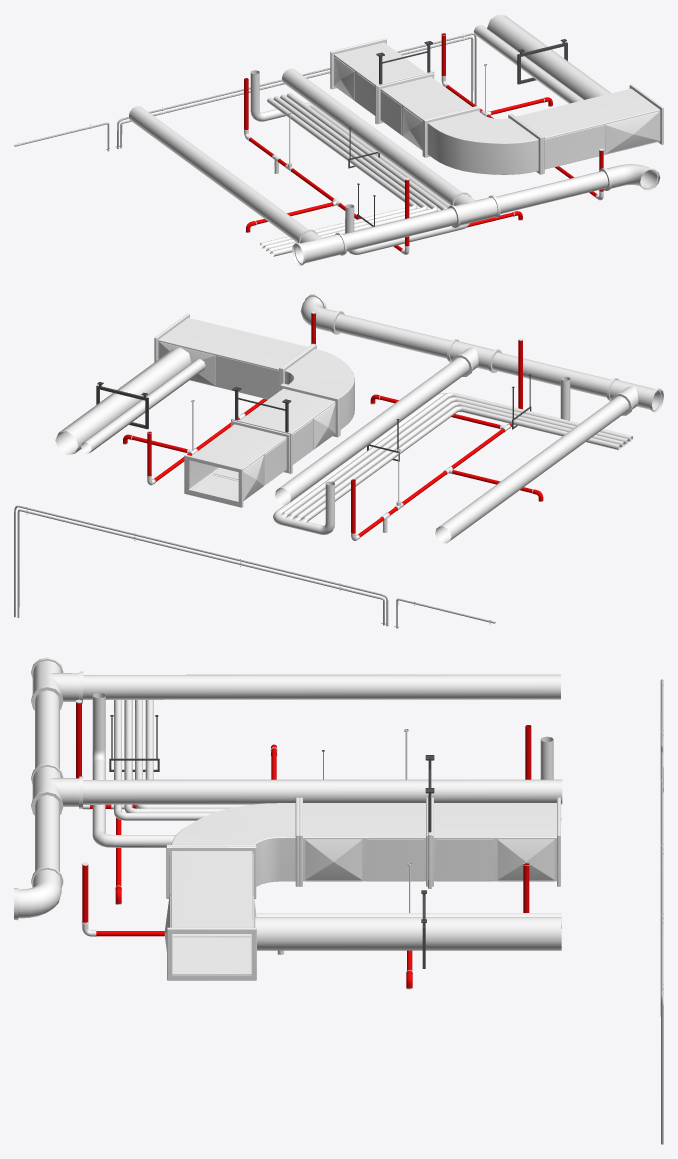
3 renders of one model, top to bottom at view 1: azimuth 30°, elevation 25°; view 2: azimuth 150°, elevation 25°; view 3: azimuth 270°, elevation 25°, orthographic. The views are drawn at different scales.
Parts seen in each view (by area): view 1: SM_H_Building_FutureTech_HBlue_01_InterWall_07B; view 2: SM_H_Building_FutureTech_HBlue_01_InterWall_07B; view 3: SM_H_Building_FutureTech_HBlue_01_InterWall_07B.
Boxes of the visible parts, x1=… form: SM_H_Building_FutureTech_HBlue_01_InterWall_07B: x1=14, y1=14, x2=663, y2=265; SM_H_Building_FutureTech_HBlue_01_InterWall_07B: x1=14, y1=294, x2=663, y2=628; SM_H_Building_FutureTech_HBlue_01_InterWall_07B: x1=14, y1=657, x2=663, y2=1144.
Bounding box in the file's own units: 269 × 315 × 121.
